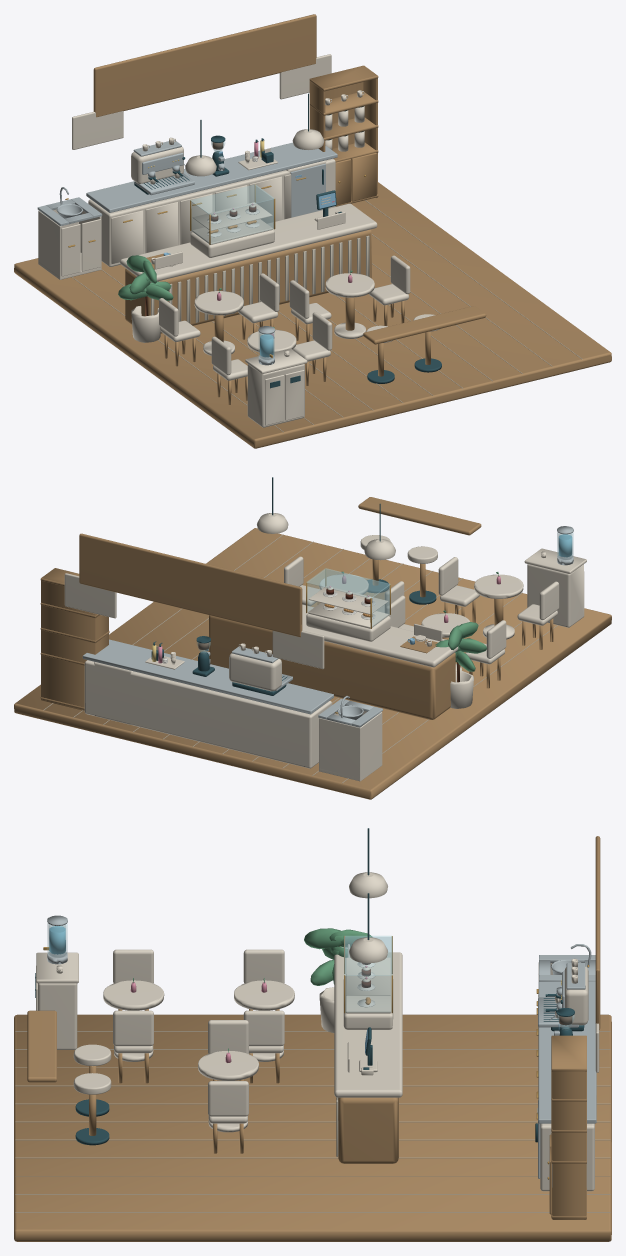
The model's file is cafe_A.glb.
3 views of the same model, one above another, from view 1: azimuth 30°, elevation 25°; view 2: azimuth 150°, elevation 25°; view 3: azimuth 270°, elevation 25° (orthographic). The views are drawn at different scales.
Parts seen in each view (by area): view 1: floor, svc:20:Plant_Broad_Leaf, svc:19:Menu_Frame, svc:23:Prep_Worktop, svc:14:FIXTURE_Stock, svc:10:FIXTURE_Pastry_Display, svc:13:FIXTURE_Staff_Sink, room:15:FIXTURE_Water_Recycling, svc:7:FIXTURE_Espresso, room:27:Window_Bar, room:26:Table_Top, svc:9:FIXTURE_Milk_Fridge (+13 smaller); view 2: floor, svc:23:Prep_Worktop, svc:19:Menu_Frame, svc:20:Plant_Broad_Leaf, svc:14:FIXTURE_Stock, svc:10:FIXTURE_Pastry_Display, svc:13:FIXTURE_Staff_Sink, room:15:FIXTURE_Water_Recycling, svc:7:FIXTURE_Espresso, room:27:Window_Bar, room:24:Table_Top, room:2:FIXTURE_Dining_Chair.001 (+12 smaller); view 3: floor, svc:20:Plant_Broad_Leaf, svc:14:FIXTURE_Stock, svc:23:Prep_Worktop, room:15:FIXTURE_Water_Recycling, svc:10:FIXTURE_Pastry_Display, svc:7:FIXTURE_Espresso, room:27:Window_Bar, room:1:FIXTURE_Dining_Chair, room:5:FIXTURE_Dining_Chair.004, room:26:Table_Top, room:24:Table_Top (+11 smaller).
Part boxes in pixels (x1=…): floor: x1=14, y1=182, x2=611, y2=448; svc:20:Plant_Broad_Leaf: x1=118, y1=203, x2=377, y2=342; svc:19:Menu_Frame: x1=72, y1=14, x2=331, y2=149; svc:23:Prep_Worktop: x1=86, y1=142, x2=337, y2=266; svc:14:FIXTURE_Stock: x1=309, y1=65, x2=378, y2=206; svc:10:FIXTURE_Pastry_Display: x1=190, y1=184, x2=275, y2=257; svc:13:FIXTURE_Staff_Sink: x1=37, y1=187, x2=102, y2=279; room:15:FIXTURE_Water_Recycling: x1=245, y1=326, x2=307, y2=427; svc:7:FIXTURE_Espresso: x1=131, y1=137, x2=194, y2=195; room:27:Window_Bar: x1=363, y1=306, x2=486, y2=344; room:26:Table_Top: x1=325, y1=270, x2=374, y2=338; svc:9:FIXTURE_Milk_Fridge: x1=286, y1=160, x2=326, y2=217; floor: x1=14, y1=528, x2=611, y2=799; svc:23:Prep_Worktop: x1=82, y1=639, x2=333, y2=768; svc:19:Menu_Frame: x1=64, y1=533, x2=324, y2=668; svc:20:Plant_Broad_Leaf: x1=209, y1=604, x2=486, y2=719; svc:14:FIXTURE_Stock: x1=40, y1=568, x2=109, y2=710; svc:10:FIXTURE_Pastry_Display: x1=306, y1=568, x2=390, y2=641; svc:13:FIXTURE_Staff_Sink: x1=318, y1=696, x2=382, y2=781; room:15:FIXTURE_Water_Recycling: x1=524, y1=526, x2=586, y2=627; svc:7:FIXTURE_Espresso: x1=229, y1=643, x2=292, y2=695; room:27:Window_Bar: x1=358, y1=497, x2=481, y2=535; room:24:Table_Top: x1=474, y1=572, x2=523, y2=639; room:2:FIXTURE_Dining_Chair.001: x1=517, y1=581, x2=559, y2=649; floor: x1=14, y1=1014, x2=611, y2=1241; svc:20:Plant_Broad_Leaf: x1=304, y1=928, x2=402, y2=1163; svc:14:FIXTURE_Stock: x1=547, y1=1035, x2=586, y2=1219; svc:23:Prep_Worktop: x1=536, y1=981, x2=596, y2=1191; room:15:FIXTURE_Water_Recycling: x1=35, y1=915, x2=78, y2=1049; svc:10:FIXTURE_Pastry_Display: x1=343, y1=936, x2=393, y2=1029; svc:7:FIXTURE_Espresso: x1=538, y1=958, x2=588, y2=1031; room:27:Window_Bar: x1=27, y1=1010, x2=56, y2=1082; room:1:FIXTURE_Dining_Chair: x1=113, y1=1010, x2=153, y2=1083; room:5:FIXTURE_Dining_Chair.004: x1=208, y1=1081, x2=248, y2=1153; room:26:Table_Top: x1=198, y1=1048, x2=258, y2=1132; room:24:Table_Top: x1=103, y1=978, x2=164, y2=1061.
Size of the model in its own units: 5.99 by 3.25 by 7.
